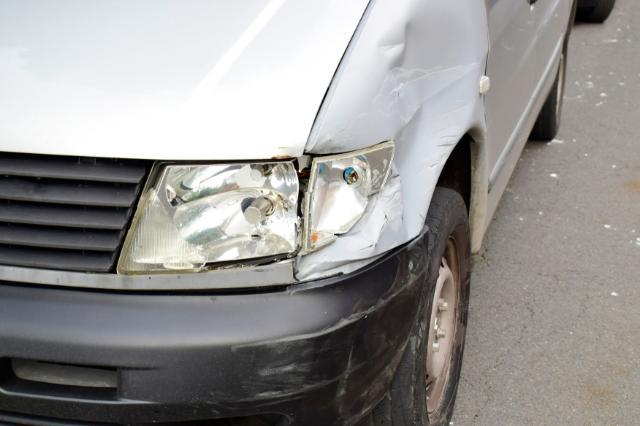Bumper: (222, 280, 437, 426)
Fender: (377, 8, 476, 159)
Light: (139, 164, 392, 270)
